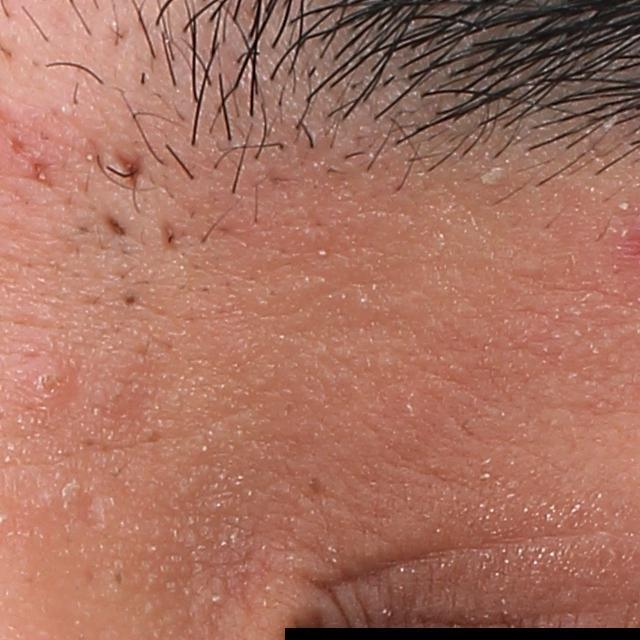comedo: (108, 572, 127, 590)
papule: (21, 357, 73, 407)
